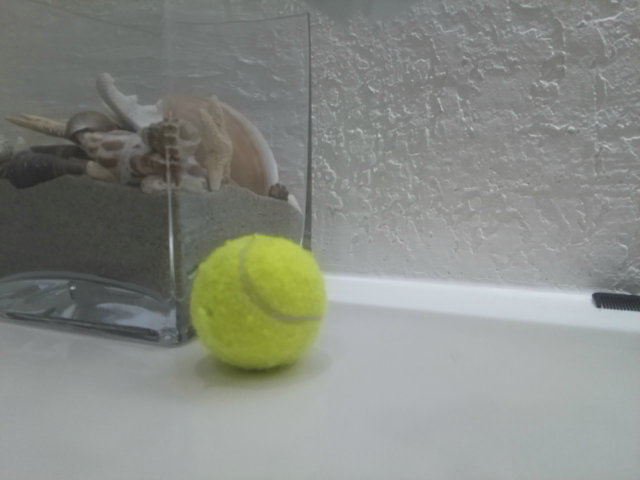yellow-ball: (188, 233, 328, 372)
